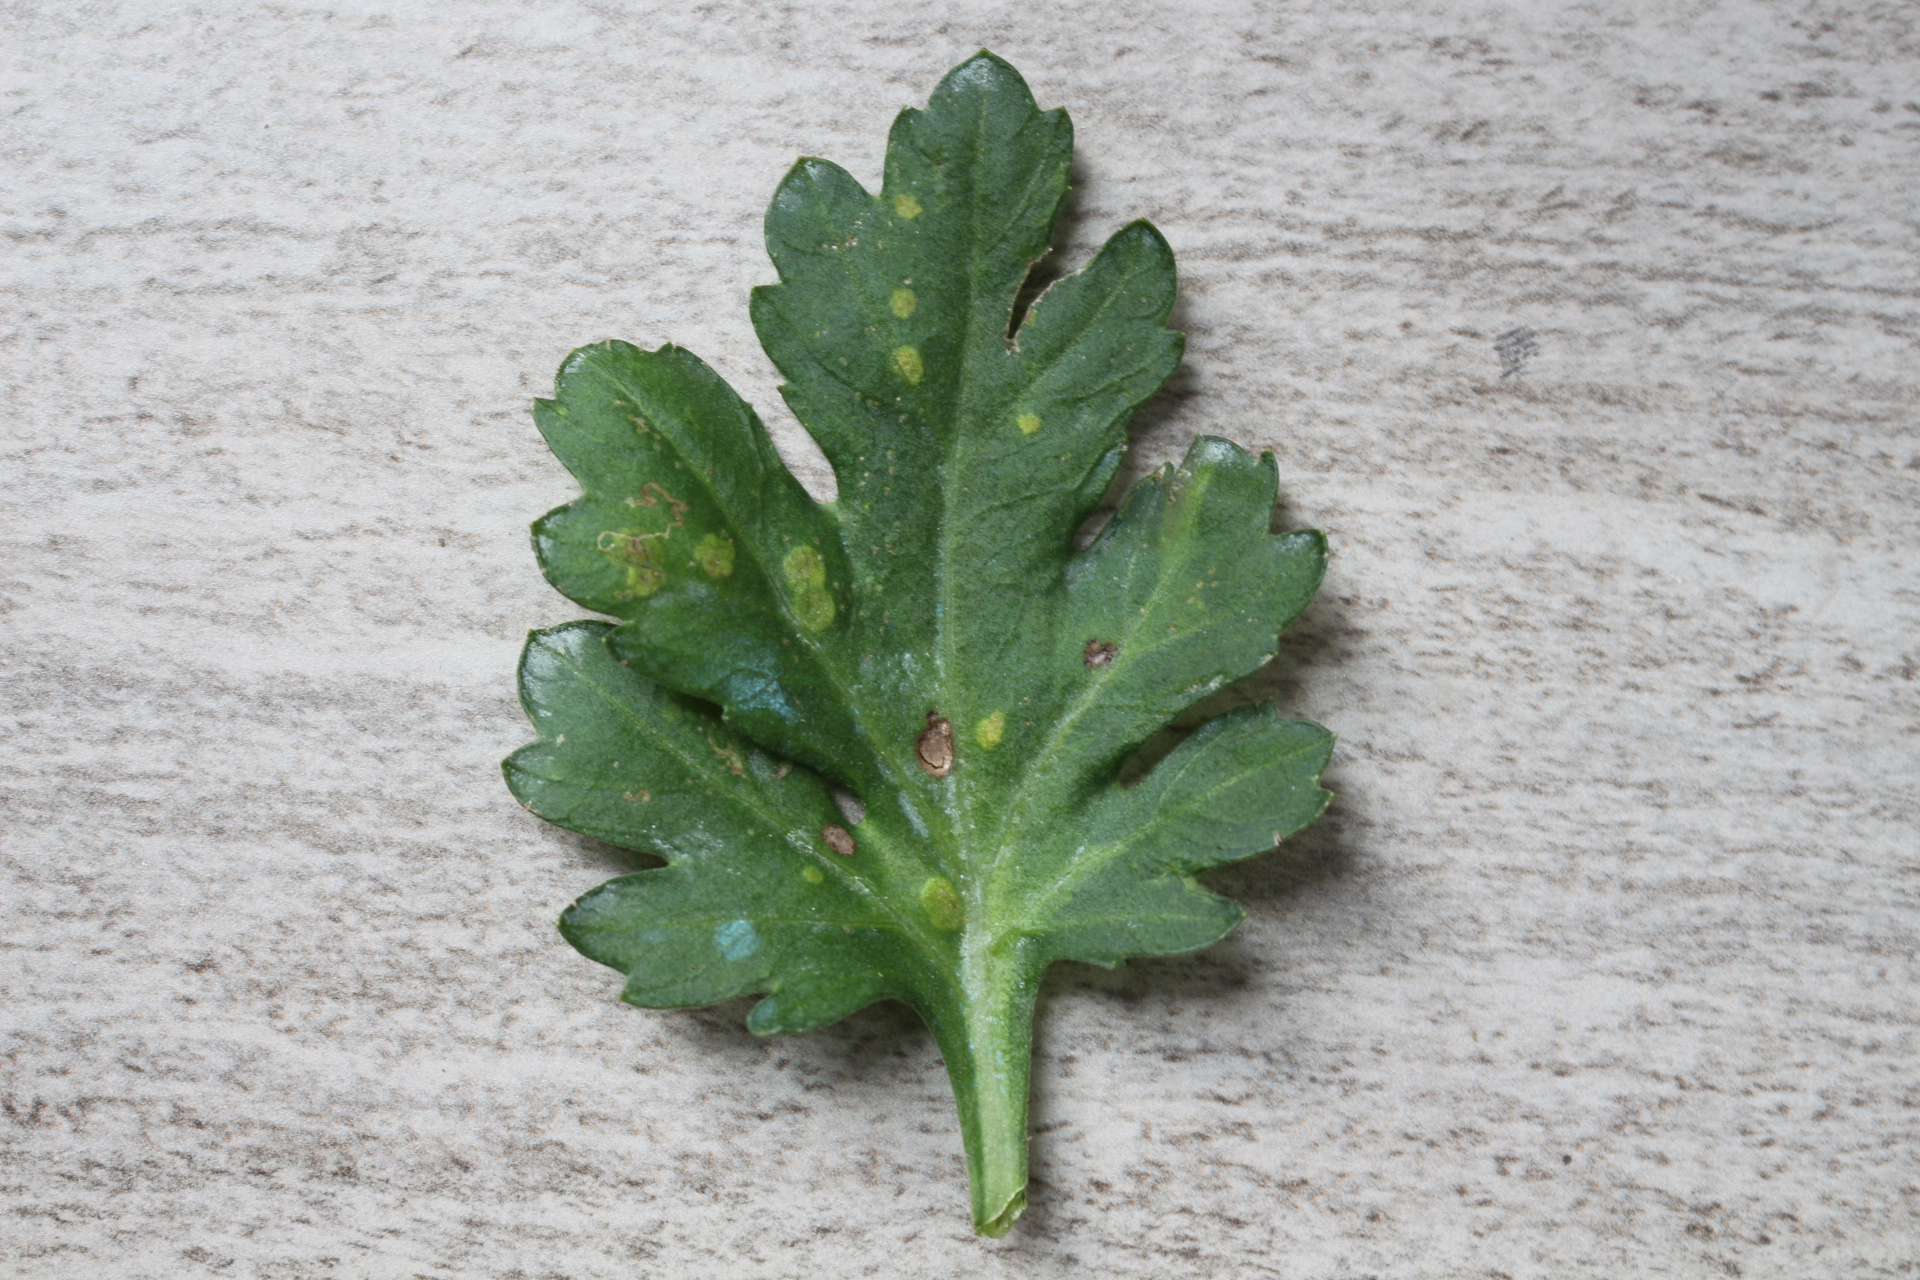namden: (909, 713, 966, 786), (821, 819, 863, 857), (1079, 637, 1116, 674)
namsung: (774, 541, 849, 627), (917, 874, 967, 937), (691, 527, 737, 589), (883, 344, 933, 391), (969, 709, 1017, 756), (886, 281, 926, 324), (889, 191, 926, 226), (1013, 406, 1049, 440), (800, 859, 829, 886)
